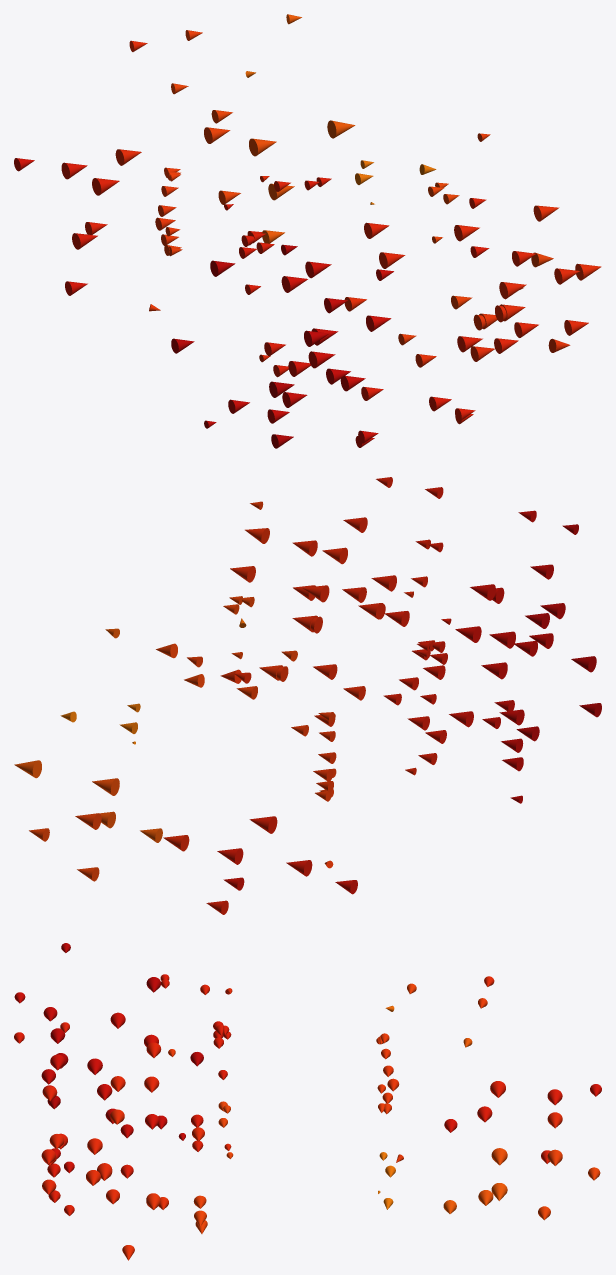
Rendered from LineasCorrienteH2-O2_mh2-2.70_V-1.1.glb.
3 views of the same model, one above another, from view 1: azimuth 30°, elevation 25°; view 2: azimuth 150°, elevation 25°; view 3: azimuth 270°, elevation 25° (orthographic). The views are drawn at different scales.
Size of the model in its own units: 0.000811 by 0.000479 by 0.00123.
2 materials, 2 textured.
